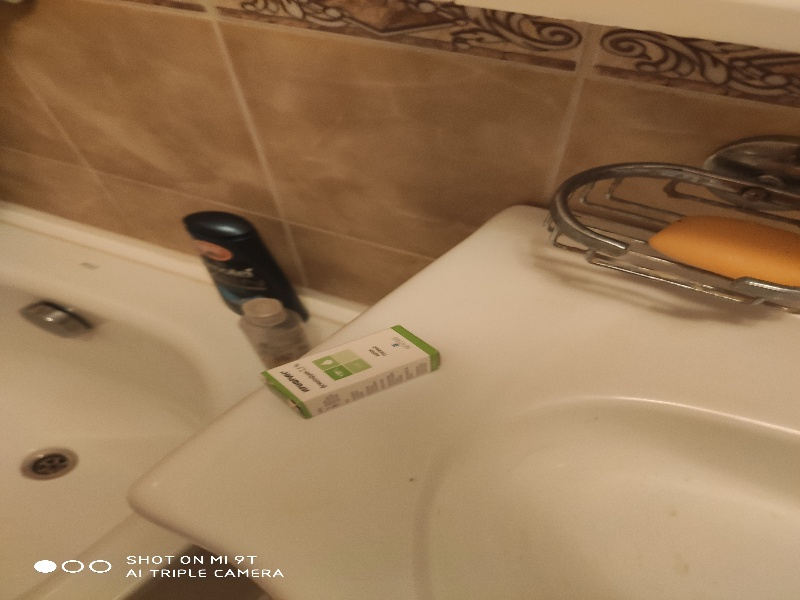ifrin: (255, 315, 445, 421)
